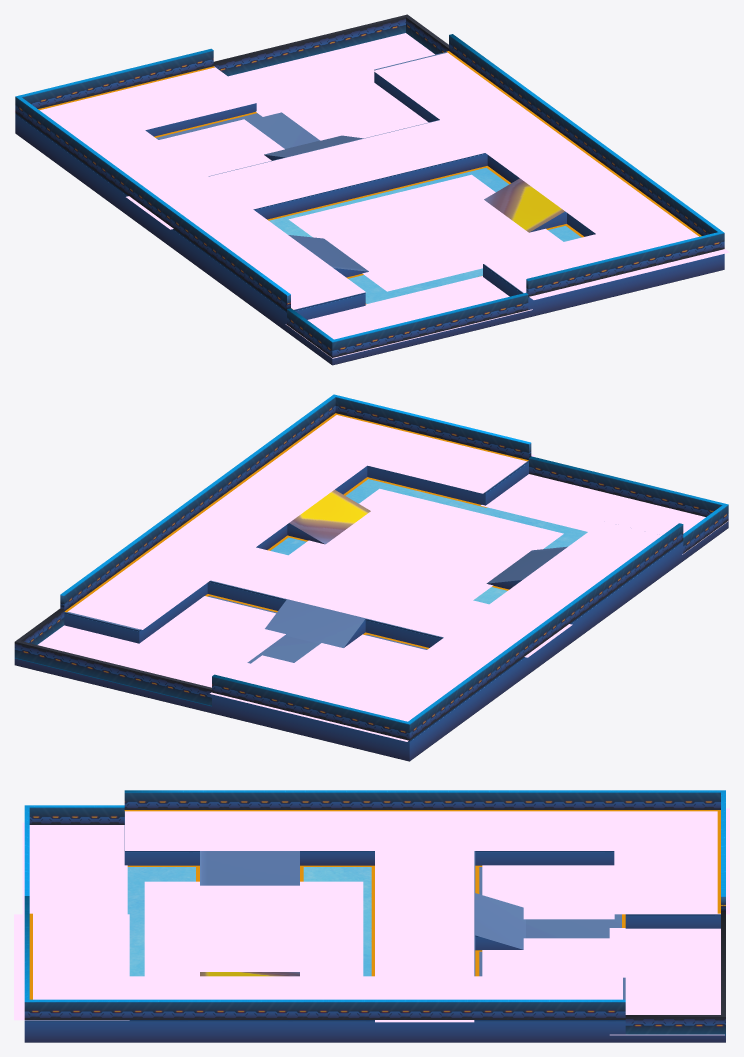
The model's file is Battle_Stage 13.fbx.
3 views of the same model, one above another, from view 1: azimuth 30°, elevation 25°; view 2: azimuth 150°, elevation 25°; view 3: azimuth 270°, elevation 25° (orthographic). The views are drawn at different scales.
Visible parts, largest first — view 1: Ice, Ice.001, Plane.053, Plane.059, Plane.055, Plane.054, Plane.051, Plane.058, Plane.052, Plane.060, Plane.057, Plane.056 (+1 smaller); view 2: Ice, Ice.001, Plane.053, Plane.055, Plane.059, Plane.054, Plane.052, Plane.060, Plane.051, Plane.058, Plane.057, Plane.056 (+1 smaller); view 3: Ice, Ice.001, Plane.059, Plane.054, Plane.053, Plane.055, Plane.051, Plane.052, Plane.058, Plane.060, Plane.056, Plane.057 (+1 smaller).
Part boxes in pixels (x1,y1,x2,y2): Ice: (15,52,724,365); Ice.001: (15,14,724,357); Plane.053: (126,102,559,229); Plane.059: (289,174,563,291); Plane.055: (373,52,670,239); Plane.054: (78,123,365,309); Plane.051: (14,66,261,144); Plane.058: (228,33,434,116); Plane.052: (482,216,729,299); Plane.060: (285,276,532,358); Plane.057: (281,86,428,140); Plane.056: (159,119,284,176); Ice: (14,460,728,761); Ice.001: (14,394,728,740); Plane.053: (138,529,572,657); Plane.055: (68,442,371,629); Plane.059: (289,488,563,600); Plane.054: (371,521,661,705); Plane.052: (293,415,534,493); Plane.060: (481,474,729,554); Plane.051: (210,655,438,741); Plane.058: (14,625,250,687); Plane.057: (147,596,285,662); Plane.056: (294,634,426,683); Ice: (24,811,725,1042); Ice.001: (24,790,725,1035); Plane.059: (144,881,363,976); Plane.054: (125,811,635,850); Plane.053: (375,811,474,1022); Plane.055: (129,976,622,999); Plane.051: (614,808,729,914); Plane.052: (14,914,129,1020); Plane.058: (609,928,724,1035); Plane.060: (22,822,127,914); Plane.056: (482,865,614,919); Plane.057: (482,938,609,976).
Size of the model in its own units: 6119 by 541 by 8576.
